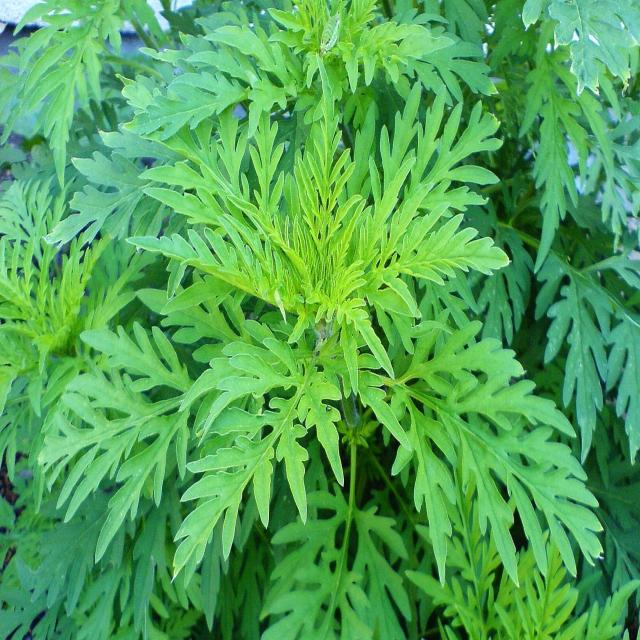ambrosia: (145, 74, 508, 558)
